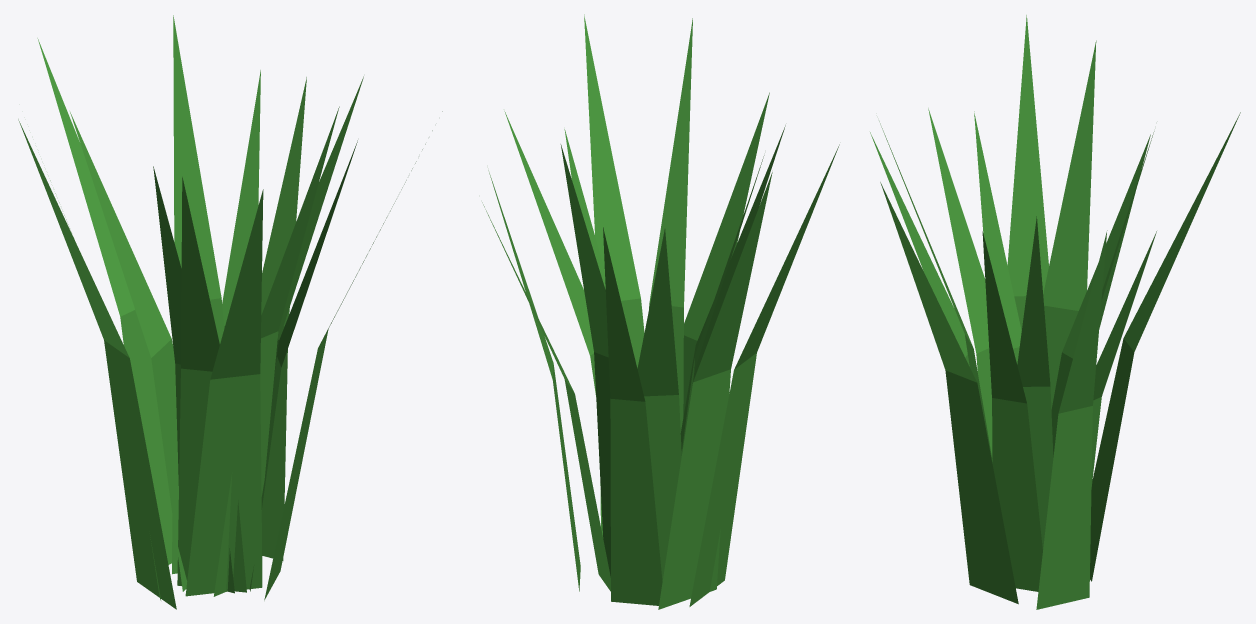
File: grass_clump_a.glb
The picture shows the model from 3 angles, left to right: view 1: azimuth 30°, elevation 25°; view 2: azimuth 150°, elevation 25°; view 3: azimuth 270°, elevation 25°; orthographic projection. The views are drawn at different scales.
Visible parts, largest first — view 1: grass_clump_a; view 2: grass_clump_a; view 3: grass_clump_a.
Boxes of the visible parts, x1,y1,x2,y2 form: grass_clump_a: (18, 15, 442, 609); grass_clump_a: (482, 14, 839, 609); grass_clump_a: (870, 15, 1240, 609).
Size of the model in its own units: 0.3005 by 0.4302 by 0.2978.
